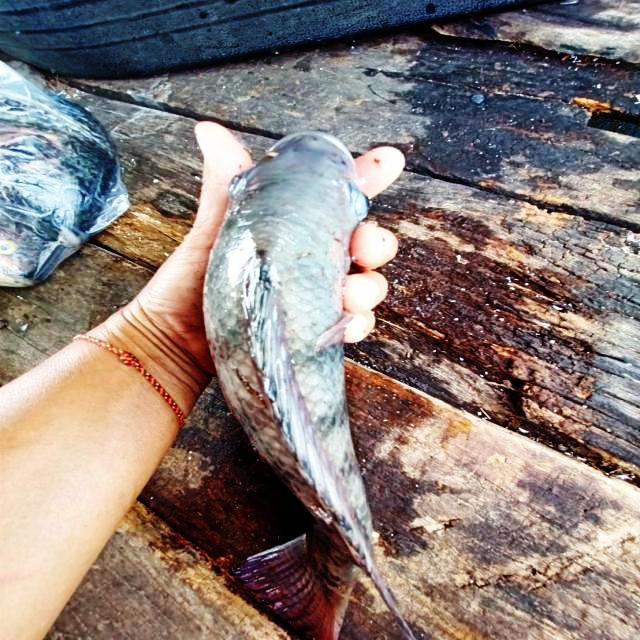Tilapia Lake Virus -TiLV-: (204, 131, 415, 639)
